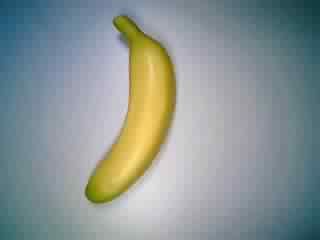banana: (82, 13, 178, 204)
